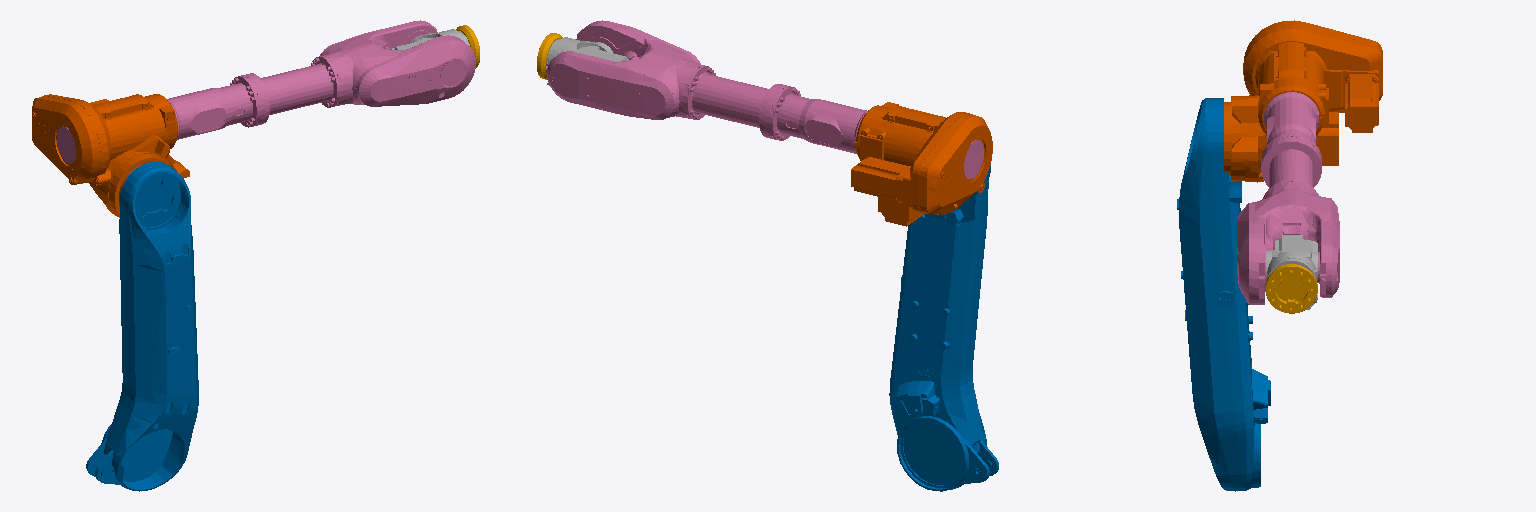
The robot description file, URDF, robot "gantry_robot_combined":
<?xml version="1.0" ?>
<robot name="gantry_robot_combined">
  <!-- Gantry Axis -->

  <link name="gantry_base_link">
    <collision>
      <geometry>
        <mesh filename="meshes/collision/base_link.obj"/>
      </geometry>
    </collision>
    <visual>
      <geometry>
        <mesh filename="meshes/visual/base_link.obj"/>
      </geometry>
    </visual>
  </link>

  <link name="gantry_slider_link">
    <collision>
      <geometry>
        <mesh filename="meshes/collision/link_1.obj"/>
      </geometry>
    </collision>
    <visual>
      <geometry>
        <mesh filename="meshes/visual/link_1.obj"/>
      </geometry>
    </visual>
  </link>

  <joint name="gantry_slide" type="prismatic">
    <origin xyz="0 0 0" rpy="0 0 0"/>
    <parent link="gantry_base_link"/>
    <child link="gantry_slider_link"/>
    <axis xyz="1 0 0"/>
    <limit effort="1000" lower="-0.41" upper="7.3" velocity="1.0"/>
  </joint>

  <!-- ABB Robot (renamed links) -->

  <link name="robot_base_link">
    <collision>
      <geometry>
        <mesh filename="meshes/collision/base_link 2.obj"/>
      </geometry>
    </collision>
    <visual>
      <geometry>
        <mesh filename="meshes/visual/base_link 2.obj"/>
      </geometry>
    </visual>
  </link>

  <link name="robot_link_1">
    <collision>
      <geometry>
        <mesh filename="meshes/collision/link_1 2.obj"/>
      </geometry>
    </collision>
    <visual>
      <geometry>
        <mesh filename="meshes/visual/link_1 2.obj"/>
      </geometry>
    </visual>
  </link>

  <link name="robot_link_2">
    <collision>
      <geometry>
        <mesh filename="meshes/collision/link_2.obj"/>
      </geometry>
    </collision>
    <visual>
      <geometry>
        <mesh filename="meshes/visual/link_2.obj"/>
      </geometry>
    </visual>
  </link>

  <link name="robot_link_3">
    <collision>
      <geometry>
        <mesh filename="meshes/collision/link_3.obj"/>
      </geometry>
    </collision>
    <visual>
      <geometry>
        <mesh filename="meshes/visual/link_3.obj"/>
      </geometry>
    </visual>
  </link>

  <link name="robot_link_4">
    <collision>
      <geometry>
        <mesh filename="meshes/collision/link_4.obj"/>
      </geometry>
    </collision>
    <visual>
      <geometry>
        <mesh filename="meshes/visual/link_4.obj"/>
      </geometry>
    </visual>
  </link>

  <link name="robot_link_5">
    <collision>
      <geometry>
        <mesh filename="meshes/collision/link_5.obj"/>
      </geometry>
    </collision>
    <visual>
      <geometry>
        <mesh filename="meshes/visual/link_5.obj"/>
      </geometry>
    </visual>
  </link>

  <link name="robot_link_6">
    <collision>
      <geometry>
        <mesh filename="meshes/collision/link_6.obj"/>
      </geometry>
    </collision>
    <visual>
      <geometry>
        <mesh filename="meshes/visual/link_6.obj"/>
      </geometry>
    </visual>
  </link>

  <link name="flange"/>

  <!-- Joint from gantry to ABB base -->
  <joint name="gantry_to_robot_base" type="fixed">
    <origin xyz="0.6 0.43 0.55" rpy="0 0 0"/>
    <parent link="gantry_slider_link"/>
    <child link="robot_base_link"/>
  </joint>

  <!-- ABB joints (renamed) -->
  <joint name="joint_1" type="revolute">
    <origin xyz="0 0 0.780" rpy="0 0 0"/>
    <parent link="robot_base_link"/>
    <child link="robot_link_1"/>
    <axis xyz="0 0 1"/>
    <limit lower="-2.967" upper="2.967" effort="0" velocity="1.745"/>
  </joint>

  <joint name="joint_2" type="revolute">
    <origin xyz="0.320 0 0" rpy="0 0 0"/>
    <parent link="robot_link_1"/>
    <child link="robot_link_2"/>
    <axis xyz="0 1 0"/>
    <limit lower="-1.134" upper="1.484" effort="0" velocity="1.571"/>
  </joint>

  <joint name="joint_3" type="revolute">
    <origin xyz="0 0 1.280" rpy="0 0 0"/>
    <parent link="robot_link_2"/>
    <child link="robot_link_3"/>
    <axis xyz="0 1 0"/>
    <limit lower="-3.142" upper="1.222" effort="0" velocity="1.571"/>
  </joint>

  <joint name="joint_4" type="revolute">
    <origin xyz="0 0 0.200" rpy="0 0 0"/>
    <parent link="robot_link_3"/>
    <child link="robot_link_4"/>
    <axis xyz="1 0 0"/>
    <limit lower="-5.236" upper="5.236" effort="0" velocity="2.967"/>
  </joint>

  <joint name="joint_5" type="revolute">
    <origin xyz="1.5925 0 0" rpy="0 0 0"/>
    <parent link="robot_link_4"/>
    <child link="robot_link_5"/>
    <axis xyz="0 1 0"/>
    <limit lower="-2.269" upper="2.269" effort="0" velocity="2.094"/>
  </joint>

  <joint name="joint_6" type="revolute">
    <origin xyz="0.200 0 0" rpy="0 0 0"/>
    <parent link="robot_link_5"/>
    <child link="robot_link_6"/>
    <axis xyz="1 0 0"/>
    <limit lower="-6.283" upper="6.283" effort="0" velocity="3.316"/>
  </joint>

  <joint name="joint_6-flange" type="fixed">
    <origin xyz="0 0 0" rpy="0 1.570796 0"/>
    <parent link="robot_link_6"/>
    <child link="flange"/>
  </joint>
</robot>

--- Facts derived from the render (not from the file) ---
Views: 3 orthographic renders of the robot side by side, from view 1: azimuth 30°, elevation 25°; view 2: azimuth 150°, elevation 25°; view 3: azimuth 270°, elevation 25°.
Robot: gantry_robot_combined — 10 links, 9 joints (6 revolute, 1 prismatic, 2 fixed); root link gantry_base_link; default pose: all joints at 0.
Links seen in each view (by area): view 1: robot_link_2, robot_link_4, robot_link_3; view 2: robot_link_2, robot_link_4, robot_link_3, robot_link_5; view 3: robot_link_2, robot_link_3, robot_link_4, robot_link_6, robot_link_5.
Boxes of the visible links, bbox=[...] form: robot_link_2: bbox=[86, 161, 198, 491]; robot_link_4: bbox=[57, 20, 475, 163]; robot_link_3: bbox=[32, 94, 189, 217]; robot_link_2: bbox=[889, 165, 998, 491]; robot_link_4: bbox=[545, 20, 983, 178]; robot_link_3: bbox=[851, 102, 992, 226]; robot_link_5: bbox=[546, 37, 628, 85]; robot_link_2: bbox=[1177, 98, 1270, 491]; robot_link_3: bbox=[1224, 20, 1382, 182]; robot_link_4: bbox=[1237, 92, 1339, 304]; robot_link_6: bbox=[1265, 264, 1317, 313]; robot_link_5: bbox=[1266, 235, 1317, 309].
Bounding box of the posed robot: 2.08 × 0.7869 × 1.85 m (x, y, z).
Meshes: 9 distinct files referenced, 5 mesh visuals loaded (5 OBJ); not drawn: 4 (reference not matched to a file when rendering).